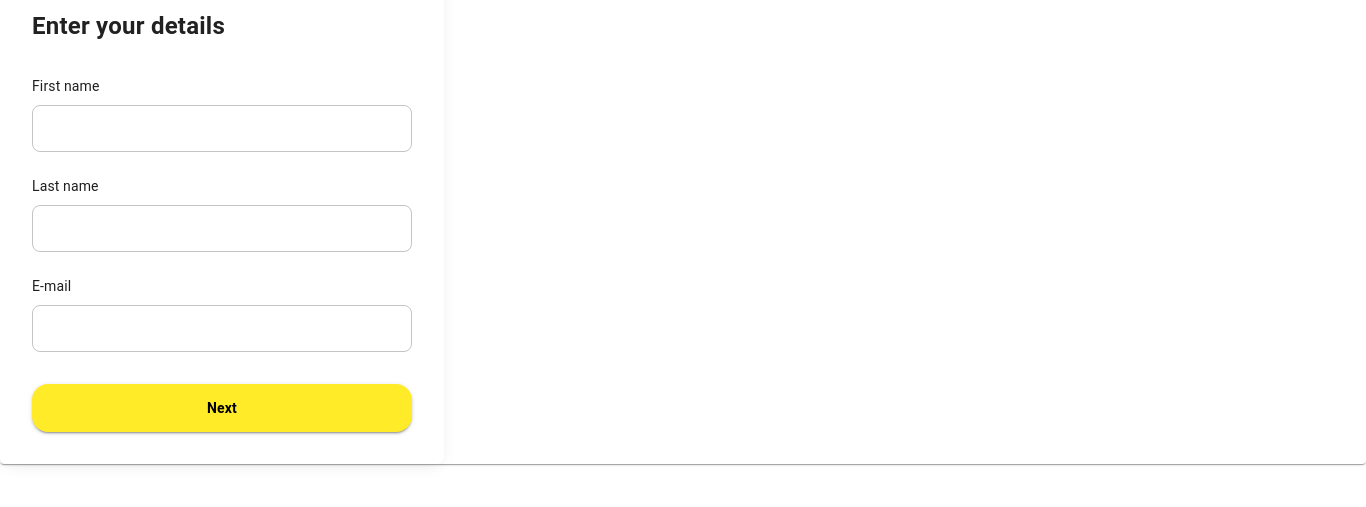
it: UserInfoForm › it validates the email address when the incorrect email address format is provided
Type "John" into the field named "firstName" below "First name" at (222, 128), box [32,105,412,152]
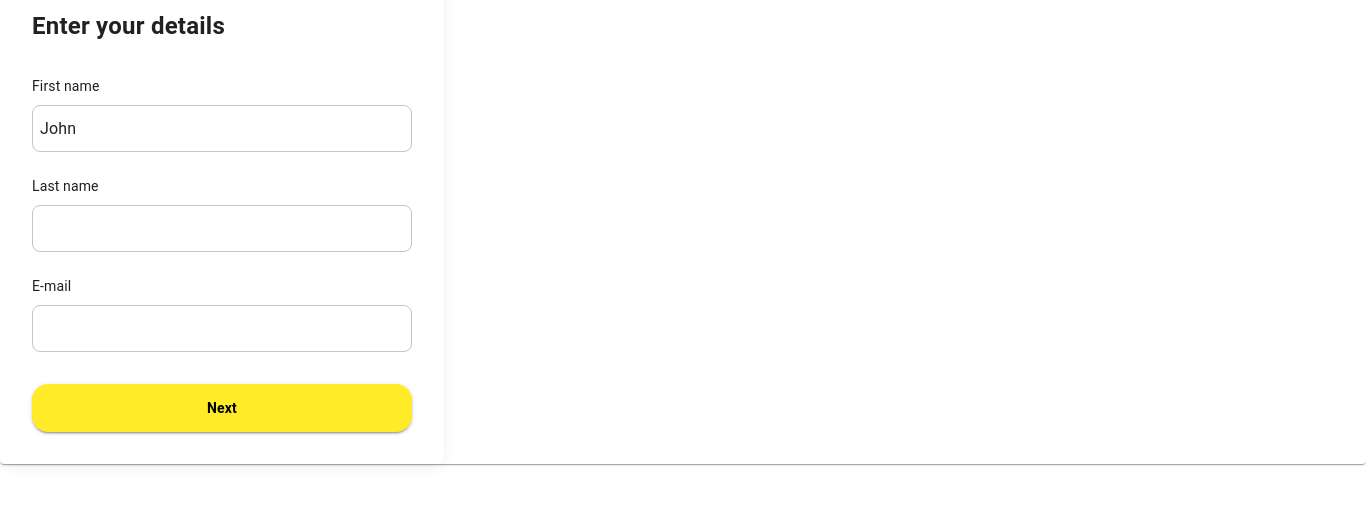
Type "Doe" into the field named "lastName" below "Last name" at (222, 228), box [32,205,412,252]
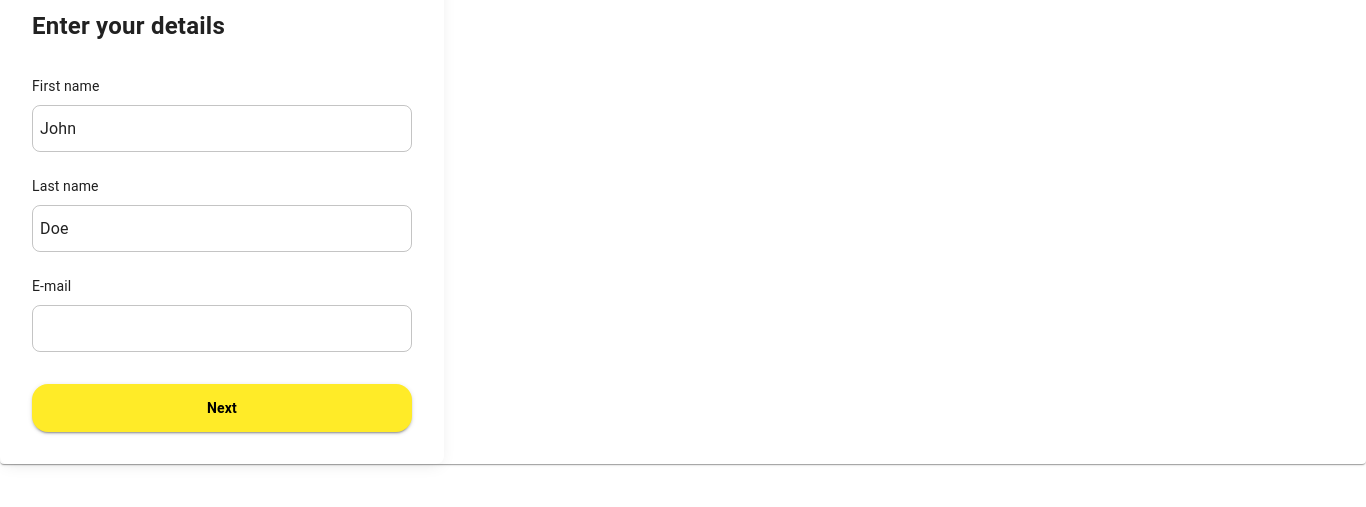
Type "john.doe@example." into the field named "email" below "E-mail" at (222, 328), box [32,305,412,352]
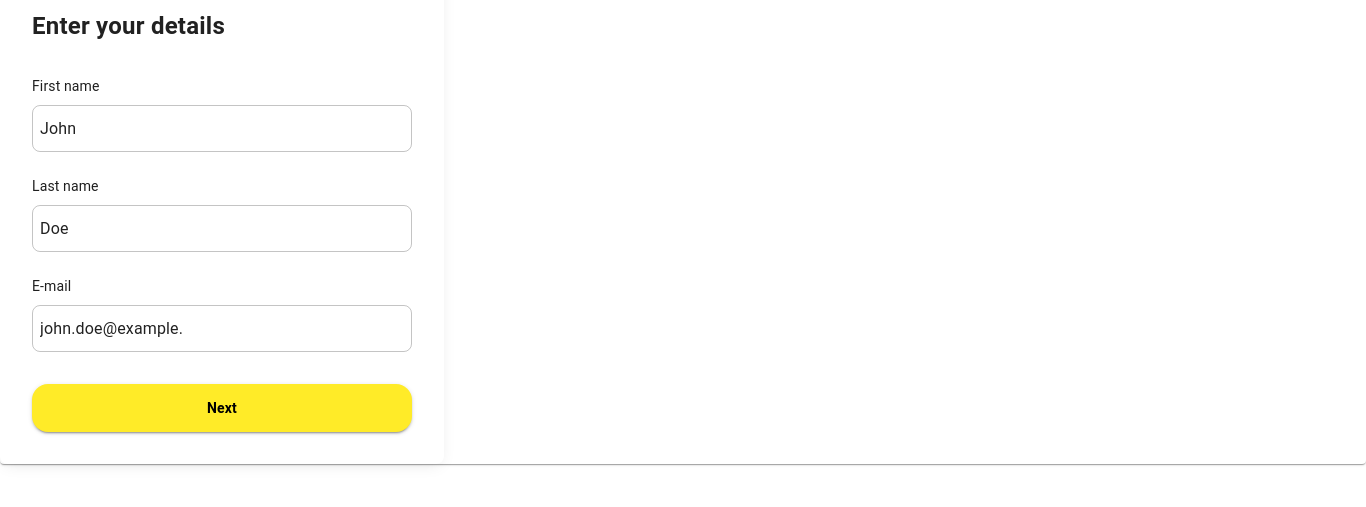
Click the button "Next" at (222, 408), box [32,384,412,432]
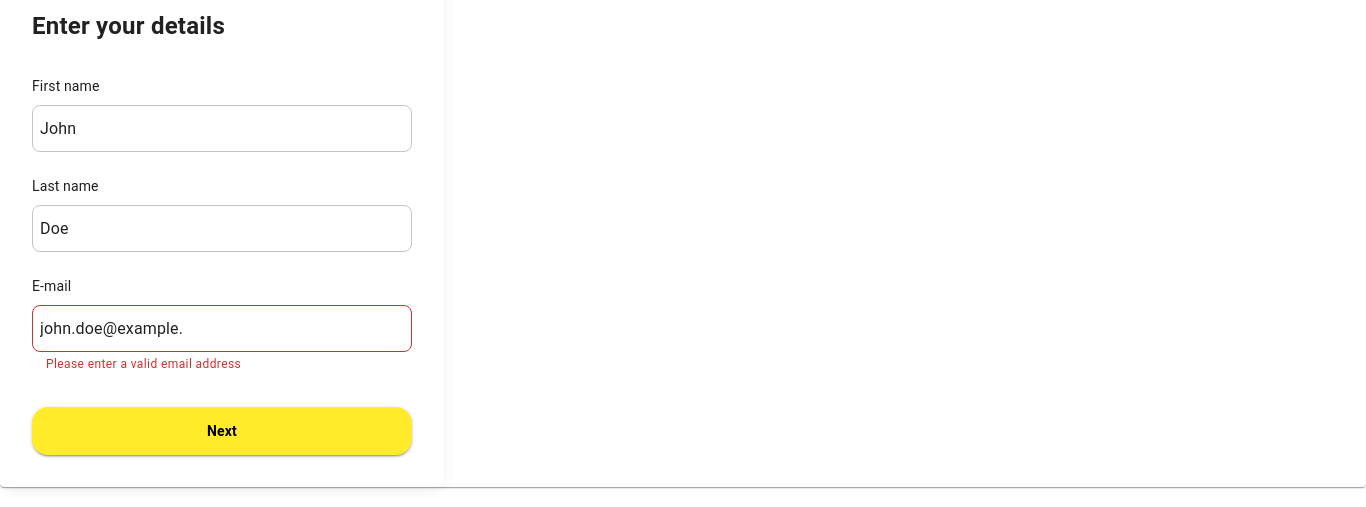
Check: the text "Please enter a valid email address" is shown, box [46,357,241,371]
